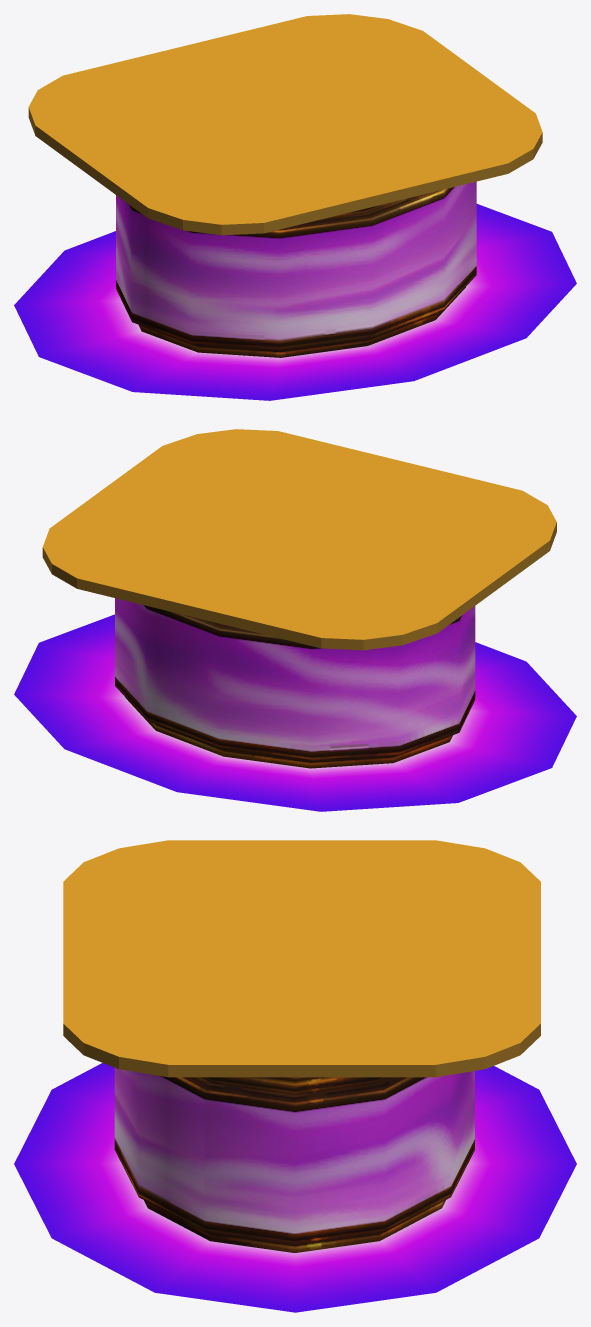
The model's file is furni_0200721.FBX.
3 views of the same model, one above another, from view 1: azimuth 30°, elevation 25°; view 2: azimuth 150°, elevation 25°; view 3: azimuth 270°, elevation 25° (orthographic). The views are drawn at different scales.
Visible parts, largest first — view 1: furni_0200721; view 2: furni_0200721; view 3: furni_0200721.
Boxes of the visible parts, x1=… form: furni_0200721: x1=14, y1=14, x2=576, y2=400; furni_0200721: x1=14, y1=429, x2=576, y2=811; furni_0200721: x1=14, y1=840, x2=576, y2=1312.
Bounding box in the file's own units: 151 × 50.1 × 121.
